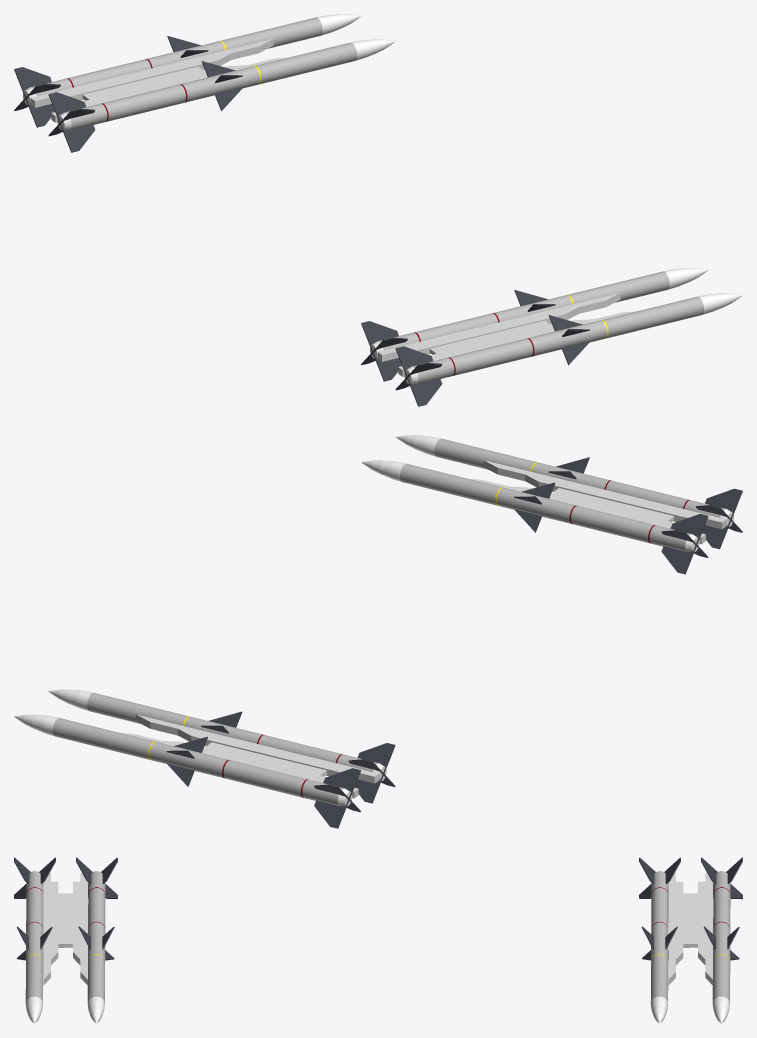
Rendered from aim120fa18e38.glb.
The picture shows the model from 3 angles, top to bottom: view 1: azimuth 30°, elevation 25°; view 2: azimuth 150°, elevation 25°; view 3: azimuth 270°, elevation 25°; orthographic projection. The views are drawn at different scales.
Parts seen in each view (by area): view 1: 円柱.009, 円柱.003, 円柱.008, 円柱.002, 立方体.009, 立方体.010; view 2: 円柱.008, 円柱.002, 円柱.003, 円柱.009, 立方体.010, 立方体.009; view 3: 立方体.009, 立方体.010, 円柱.009, 円柱.002, 円柱.003, 円柱.008.
Part boxes in pixels (x1,y1,x2,y2): 円柱.009: (395,293,742,406); 円柱.003: (48,39,395,152); 円柱.008: (361,268,708,381); 円柱.002: (14,14,361,127); 立方体.009: (30,39,288,122); 立方体.010: (378,293,634,376); 円柱.008: (361,460,708,574); 円柱.002: (14,714,360,828); 円柱.003: (48,689,395,803); 円柱.009: (396,435,742,549); 立方体.010: (470,460,726,544); 立方体.009: (121,714,378,798); 立方体.009: (668,873,712,985); 立方体.010: (43,873,87,985); 円柱.009: (14,857,55,1023); 円柱.002: (701,857,742,1023); 円柱.003: (639,857,680,1023); 円柱.008: (76,857,117,1023).
Bounding box in the file's own units: 4.39 × 0.5295 × 9.17.
Materials: 4 (4 with a texture image).
